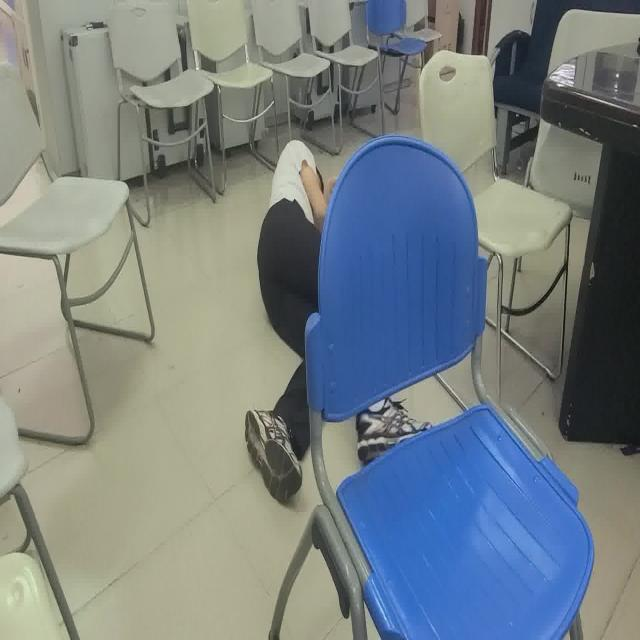Fall-Detected: (242, 137, 433, 498)
